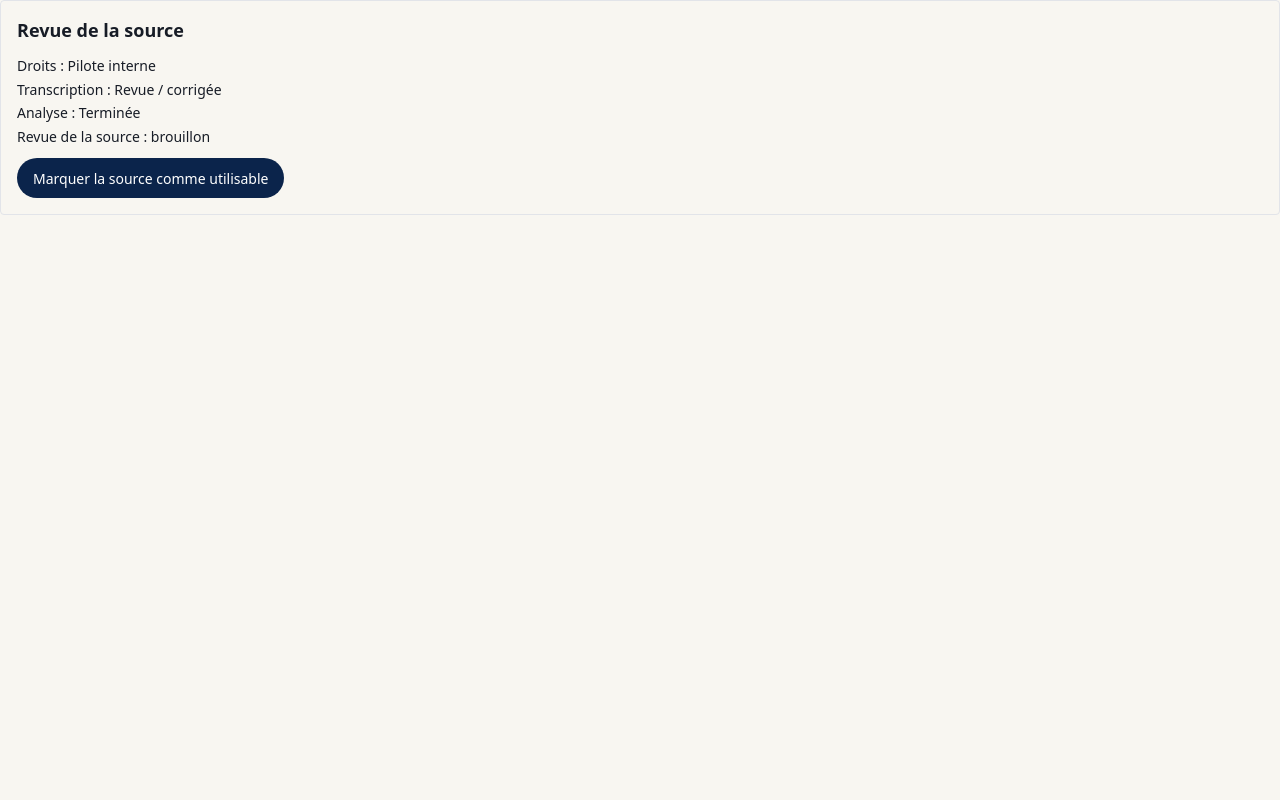
Test: explicit source review › displays server refusal AUTH_REQUIRED
Click the button "Marquer la source comme utilisable" at (151, 178), box [17,158,284,198]
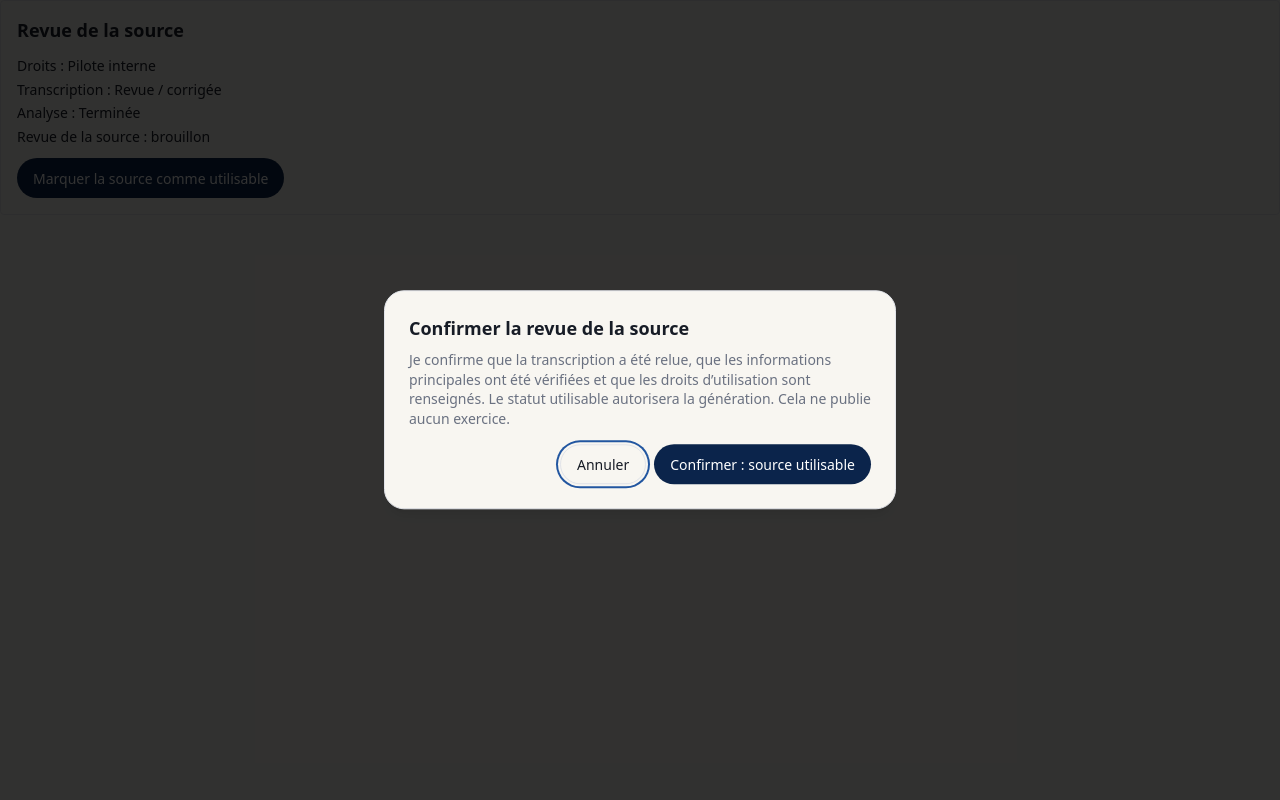
Result: the button "Confirmer : source utilisable" is shown
Click the button "Confirmer : source utilisable" at (763, 465), box [654,445,871,485]
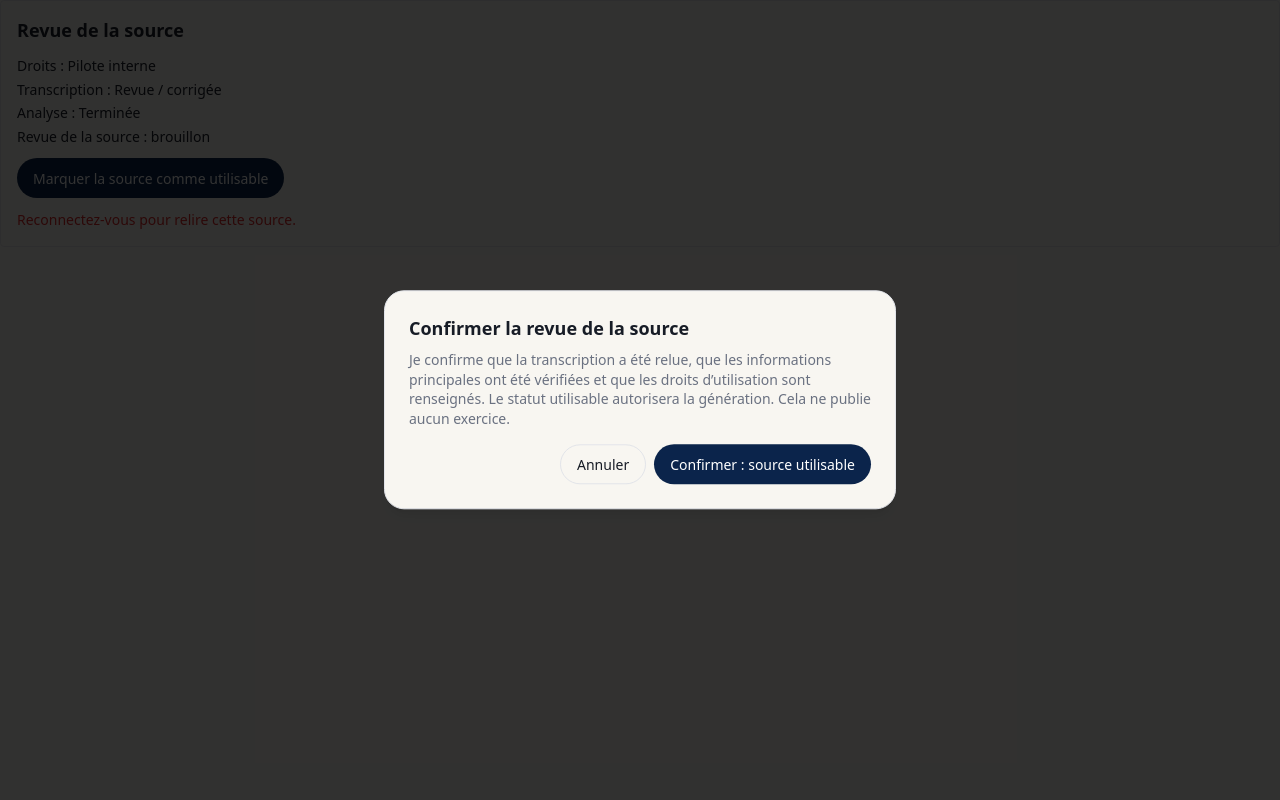
Result: the message "Reconnectez-vous pour relire cette source." is shown at [17,210,296,229]
